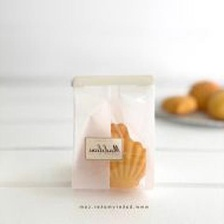snack: (63, 68, 165, 198)
